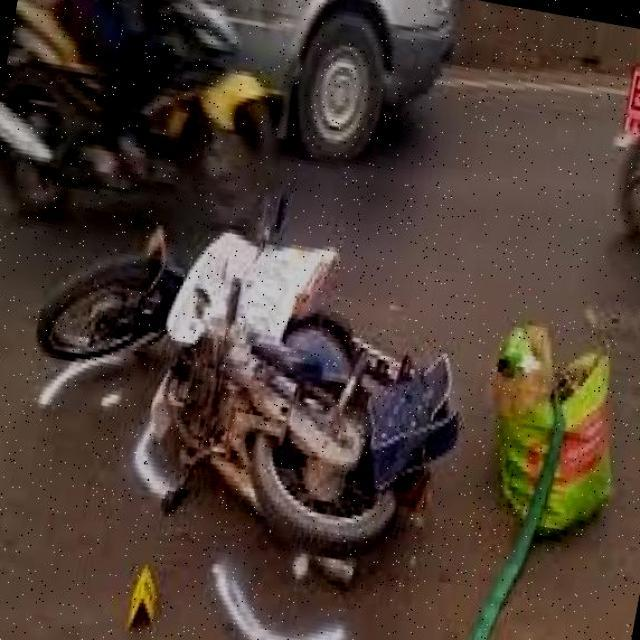accident: (0, 131, 539, 620)
